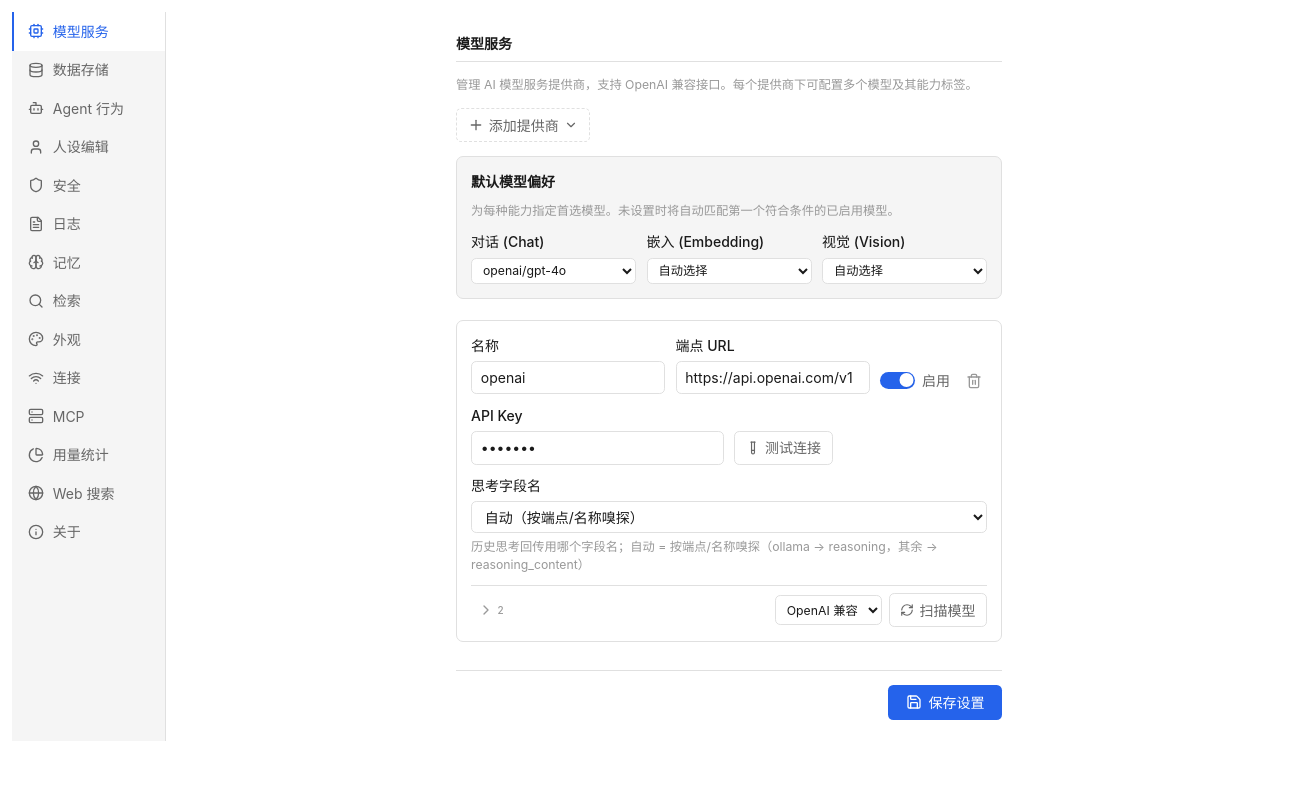
Scenario: SettingsPanel tabs › shows built-in default placeholders on unconfigured spec inputs
Click the button "2" at (491, 610), box x1=471 y1=597 x2=511 y2=623
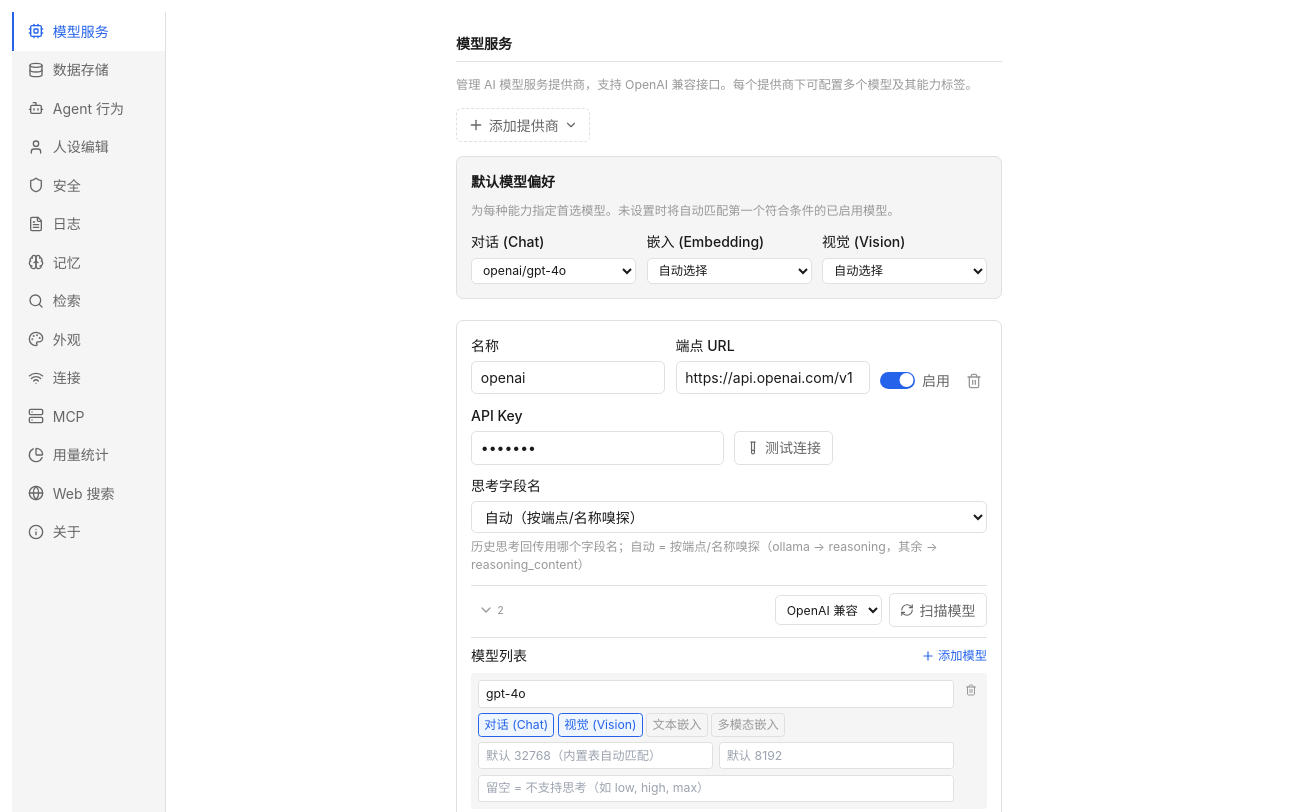
Expected: the field showing "gpt-4o" below "模型列表" is shown, x1=478 y1=680 x2=954 y2=708
Expected: the number field named "上下文长度" is not empty, x1=478 y1=742 x2=713 y2=769
